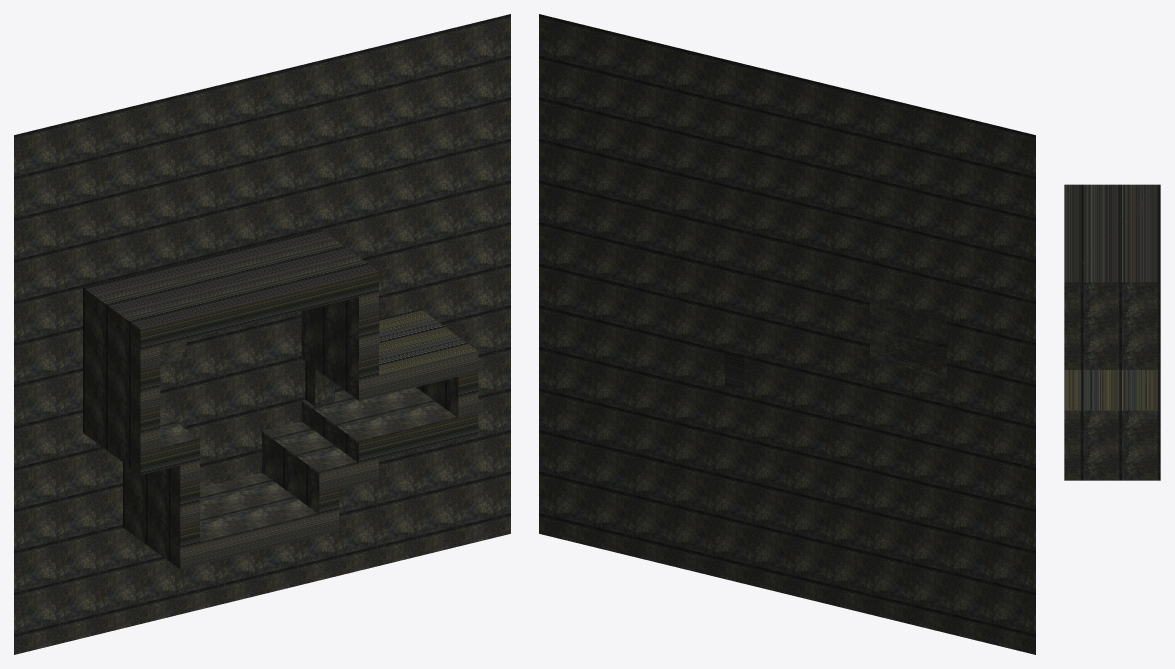
File: TrainingRoom_wtf.obj
3 renders of one model, left to right at view 1: azimuth 30°, elevation 25°; view 2: azimuth 150°, elevation 25°; view 3: azimuth 270°, elevation 25°, orthographic. The views are drawn at different scales.
Parts seen in each view (by area): view 1: group3, group2; view 2: group3; view 3: group2.
Boxes of the visible parts, bbox=[...] form: group3: bbox=[14, 14, 510, 654]; group2: bbox=[83, 229, 478, 569]; group3: bbox=[539, 14, 1035, 654]; group2: bbox=[1064, 184, 1160, 480].
Bounding box in the file's own units: 660 × 660 × 132.
